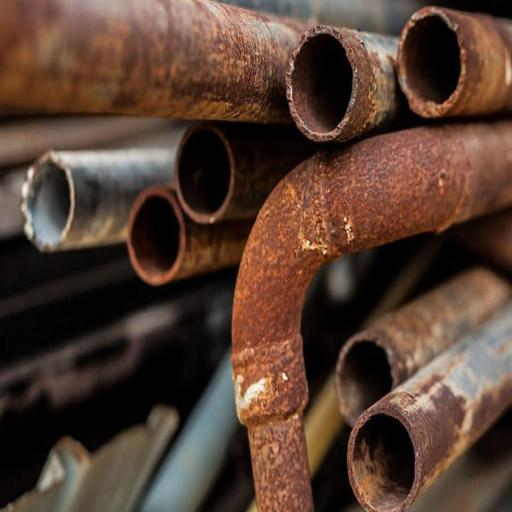corrosion: (109, 176, 255, 312), (172, 121, 315, 230), (285, 24, 400, 142), (397, 8, 511, 117)
